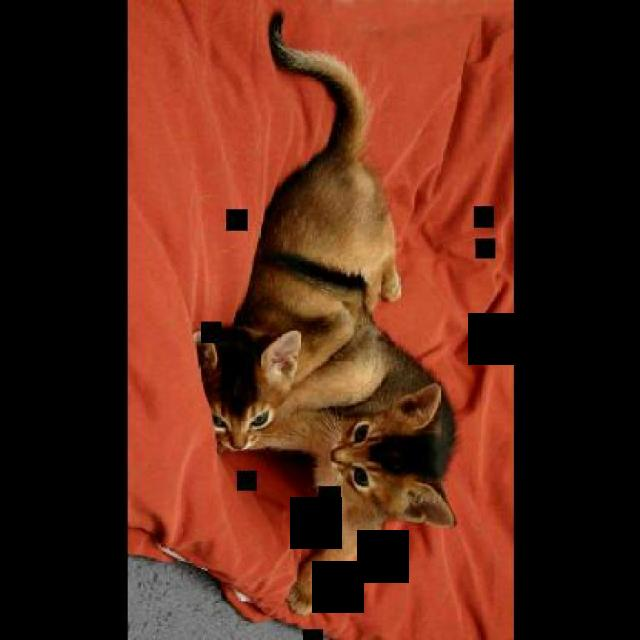unauthorized: (192, 11, 457, 617)
